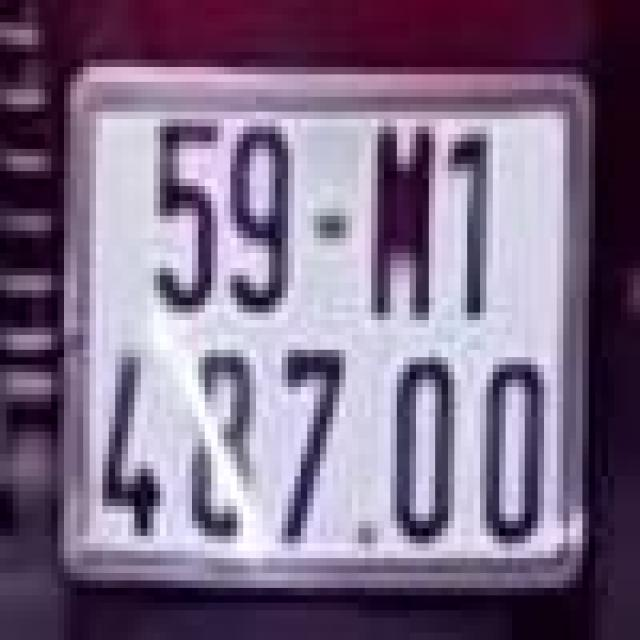0: (378, 350, 467, 550), (480, 350, 557, 558)
1: (448, 126, 499, 335)
4: (93, 335, 176, 543)
5: (144, 100, 221, 324)
7: (269, 335, 358, 565)
8: (182, 331, 260, 555)
9: (227, 112, 304, 320)
M: (374, 123, 438, 324)
